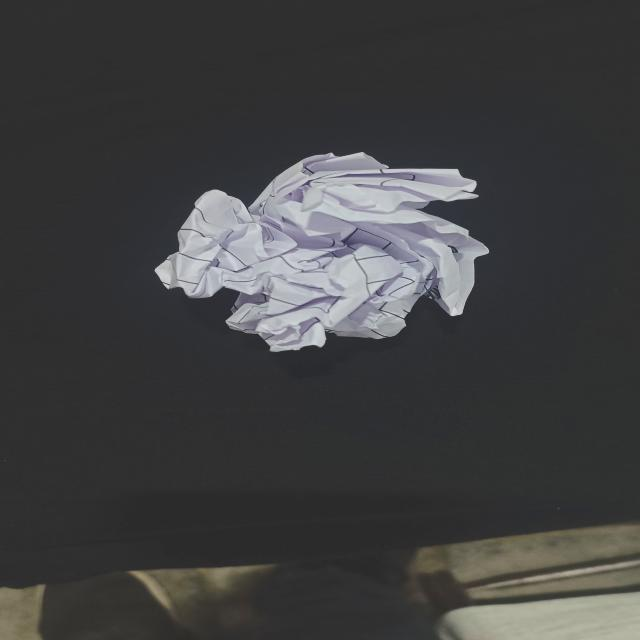PaperBall: (0, 168, 612, 637), (154, 151, 488, 346)
